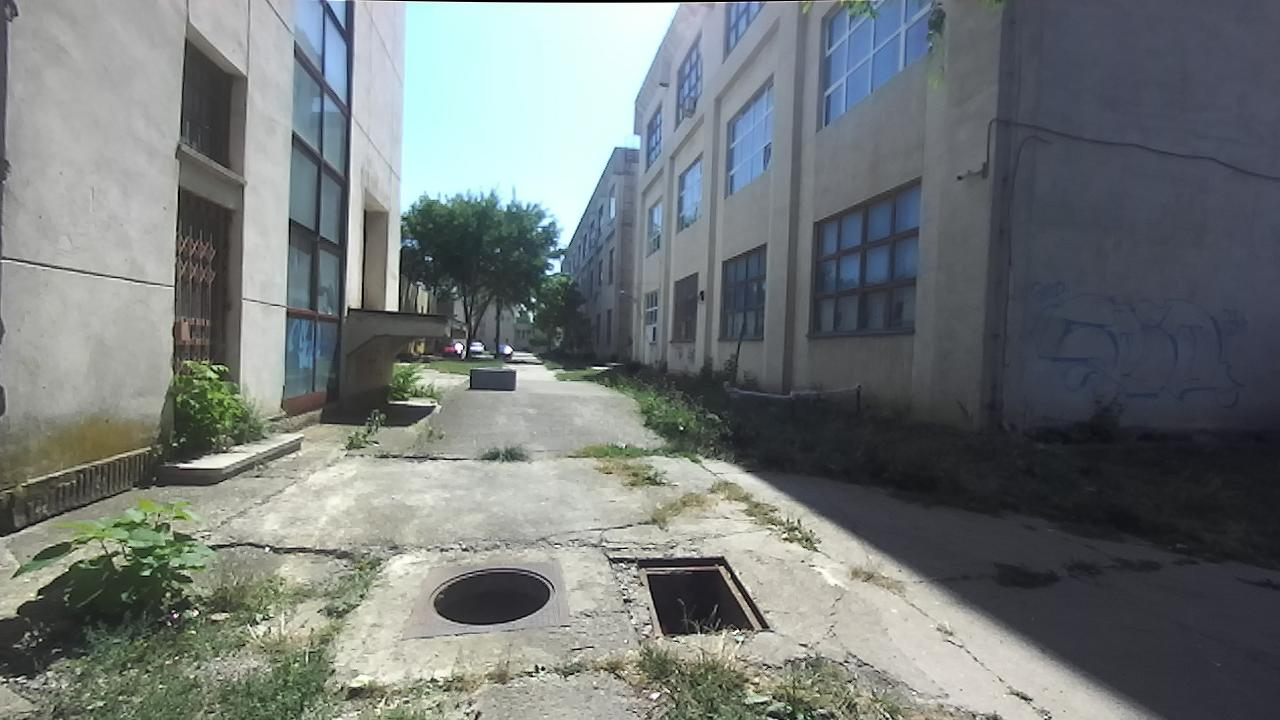drain: (632, 554, 778, 642), (424, 564, 556, 627)
